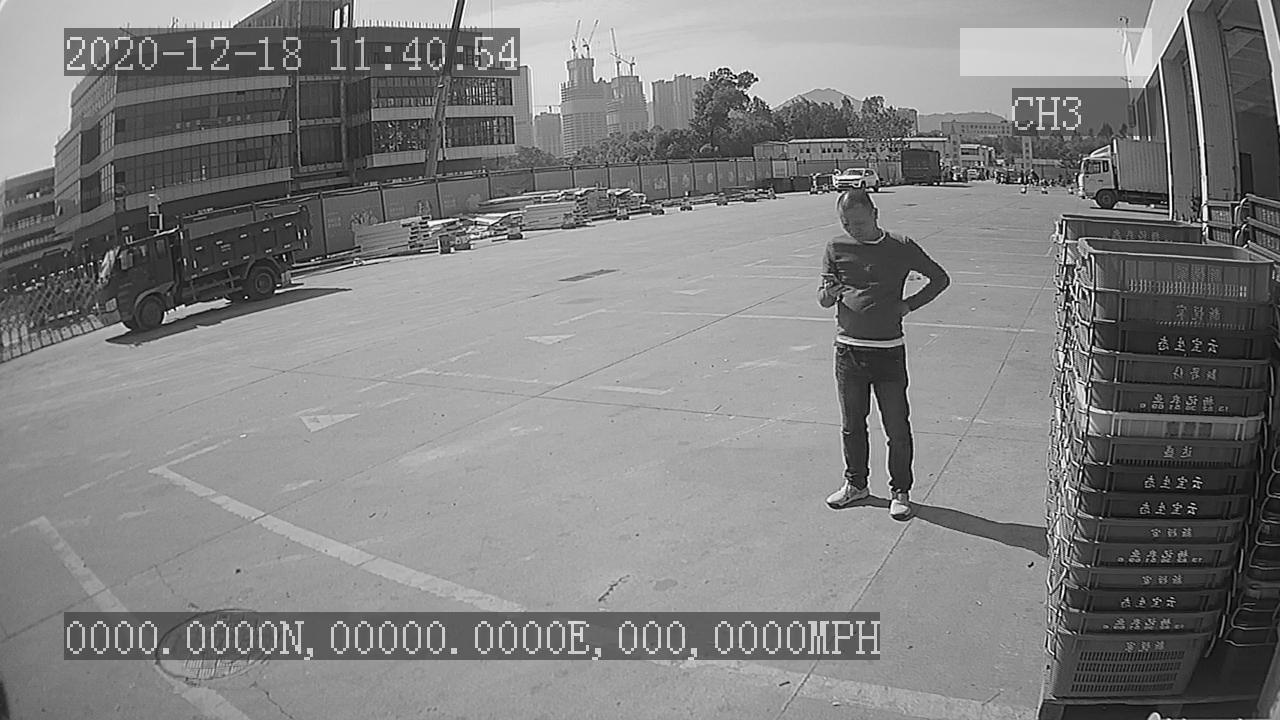person: (818, 188, 955, 522)
